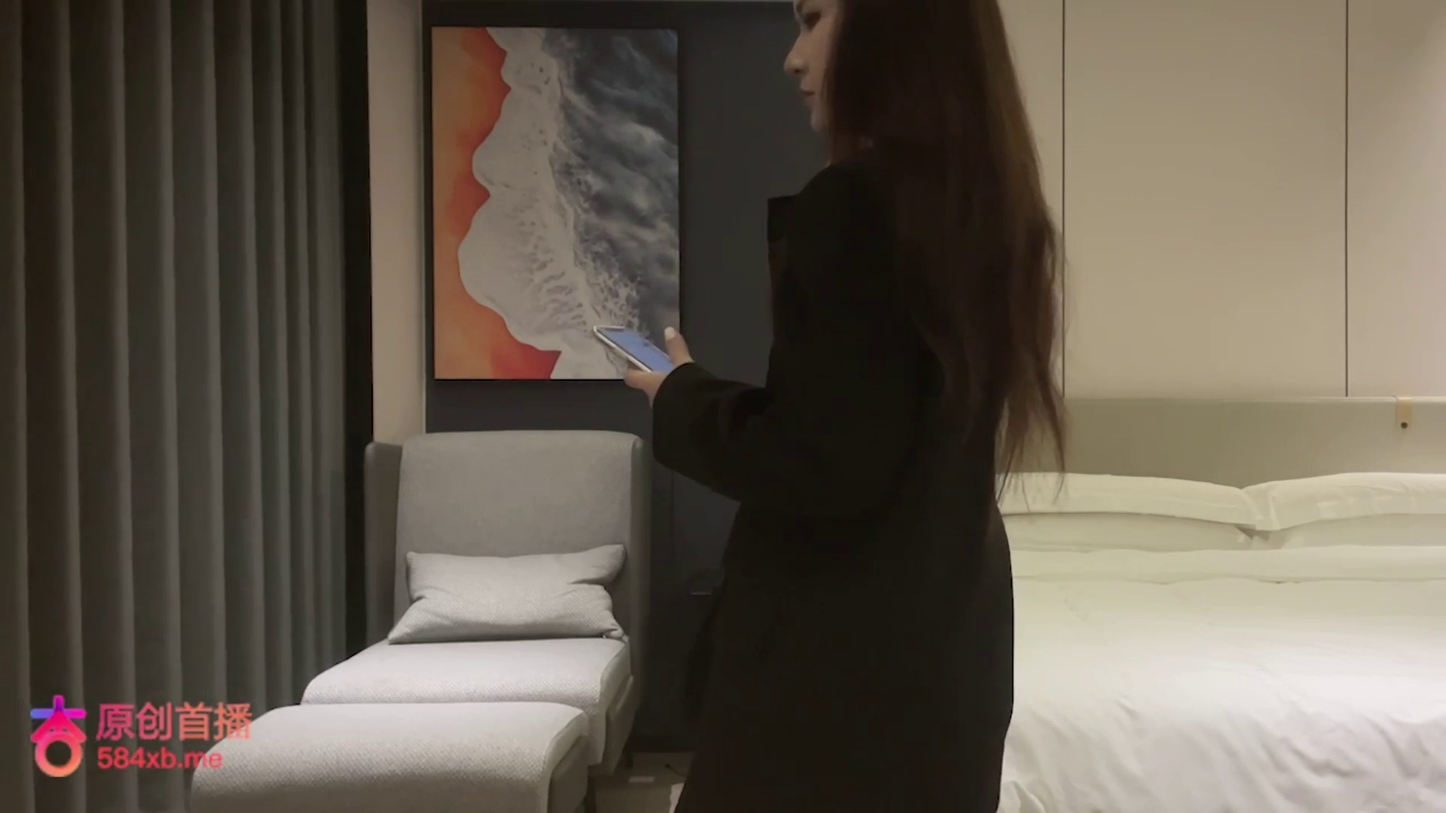stand: (615, 2, 1065, 812)
